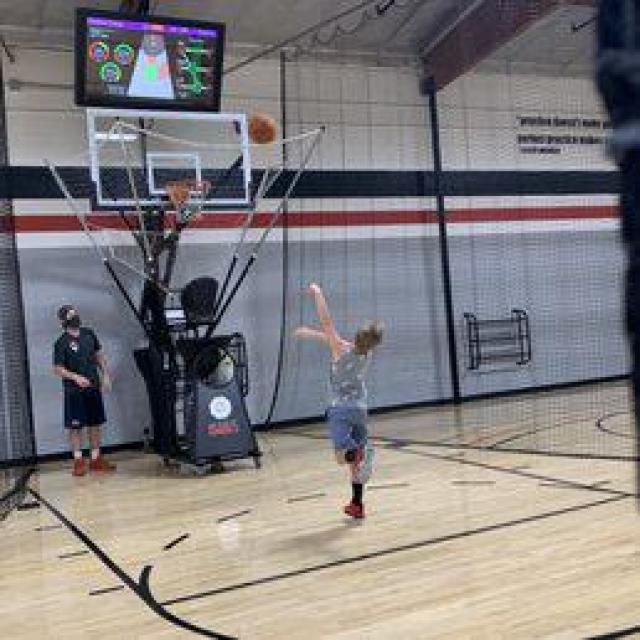Basketball: (248, 114, 278, 145)
hoop: (166, 181, 211, 224)
